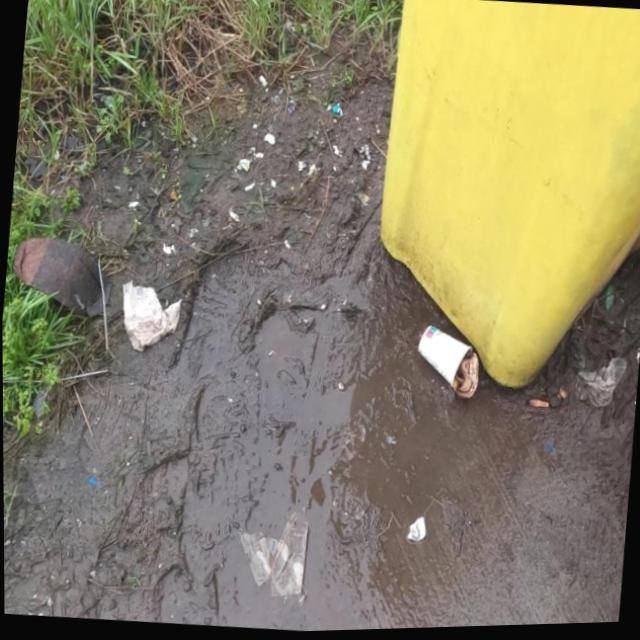Cup: (410, 318, 488, 405)
